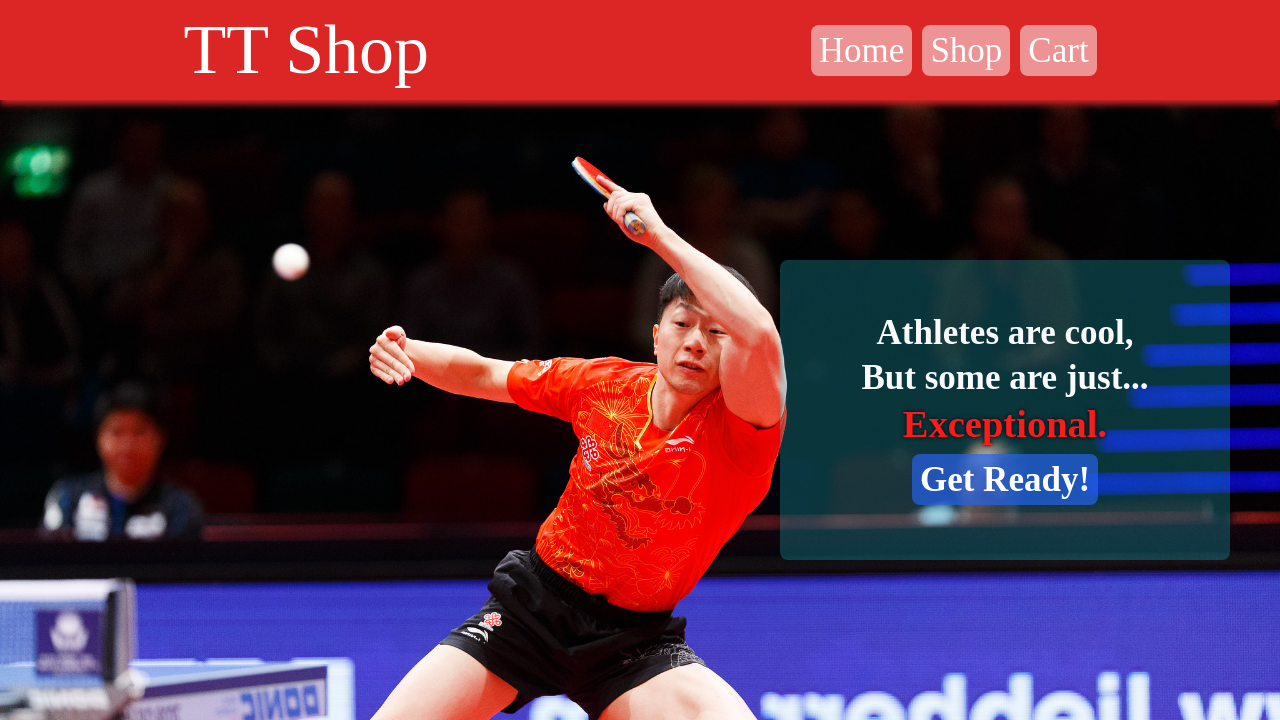
Scenario: App Integration test › Displays items in shop
The image size is (1280, 720).
Click the link "Shop" at [966, 50], box [922, 24, 1010, 76]
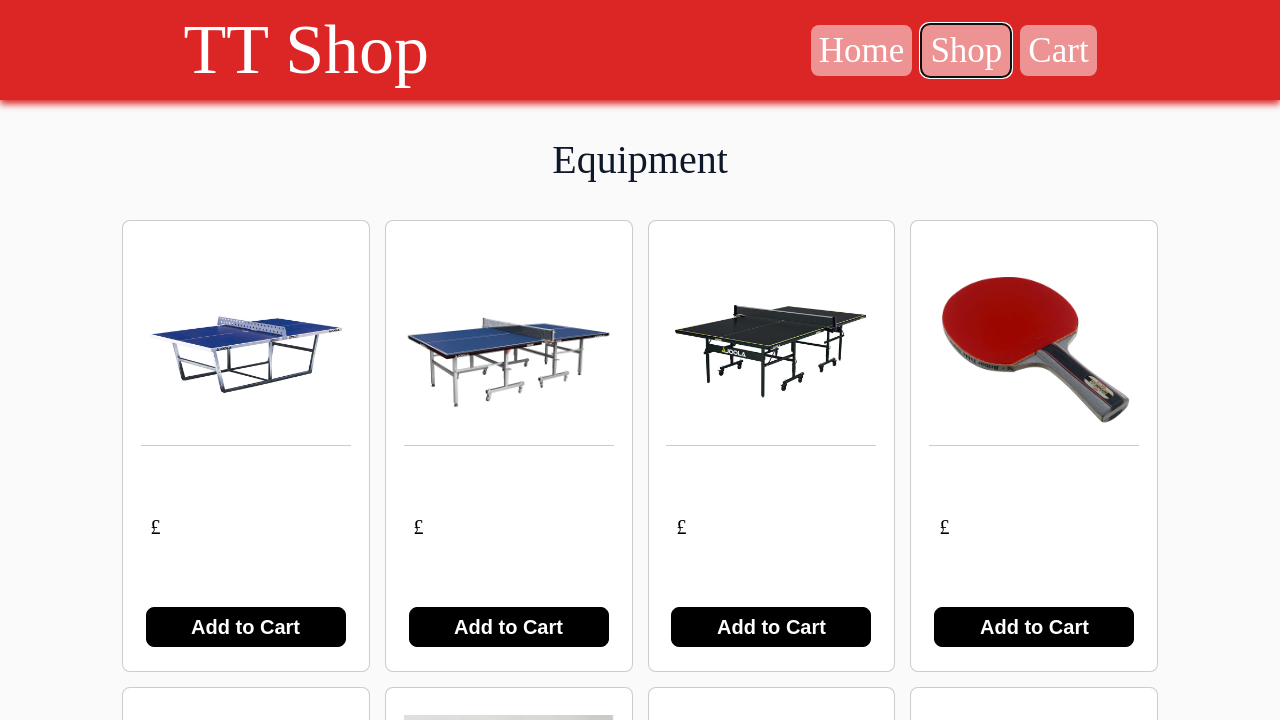
Expected: the element with test id "card" showing "£ Add to Cart" is shown, [122, 220, 370, 672]
